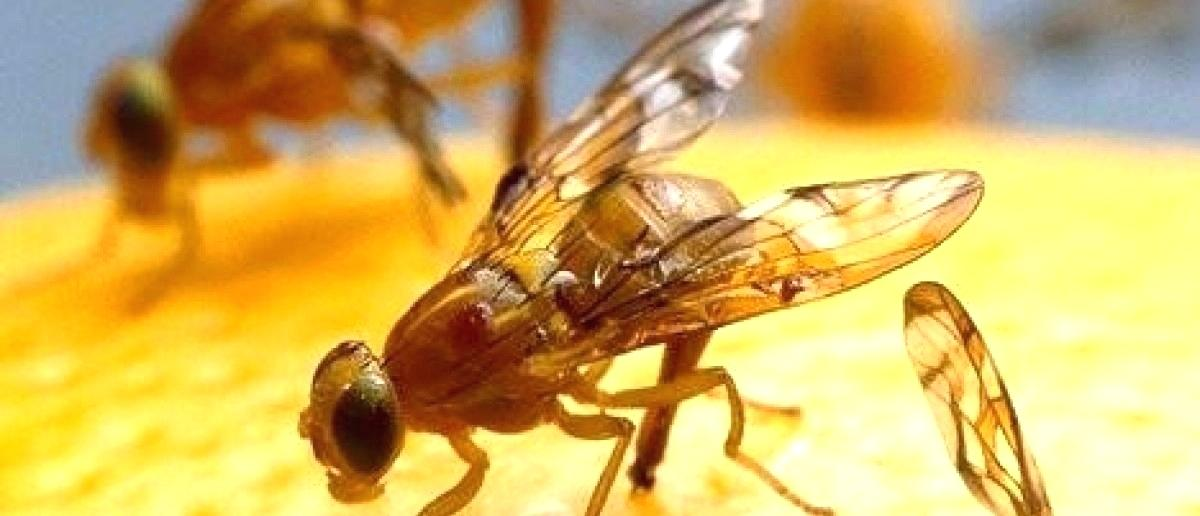house fly: (298, 1, 992, 514)
